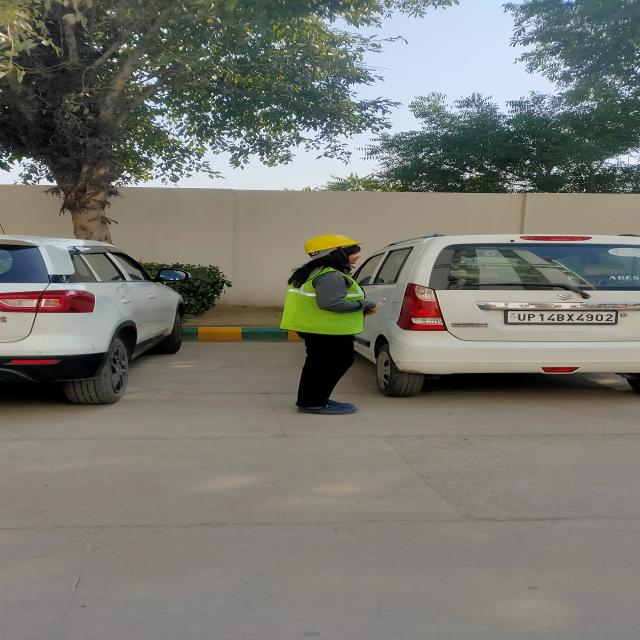safe: (280, 235, 376, 414)
